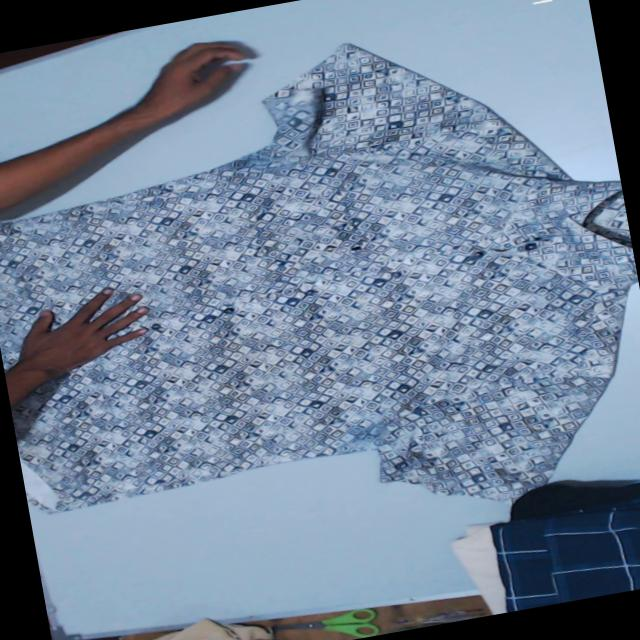new-garment: (0, 43, 637, 511)
